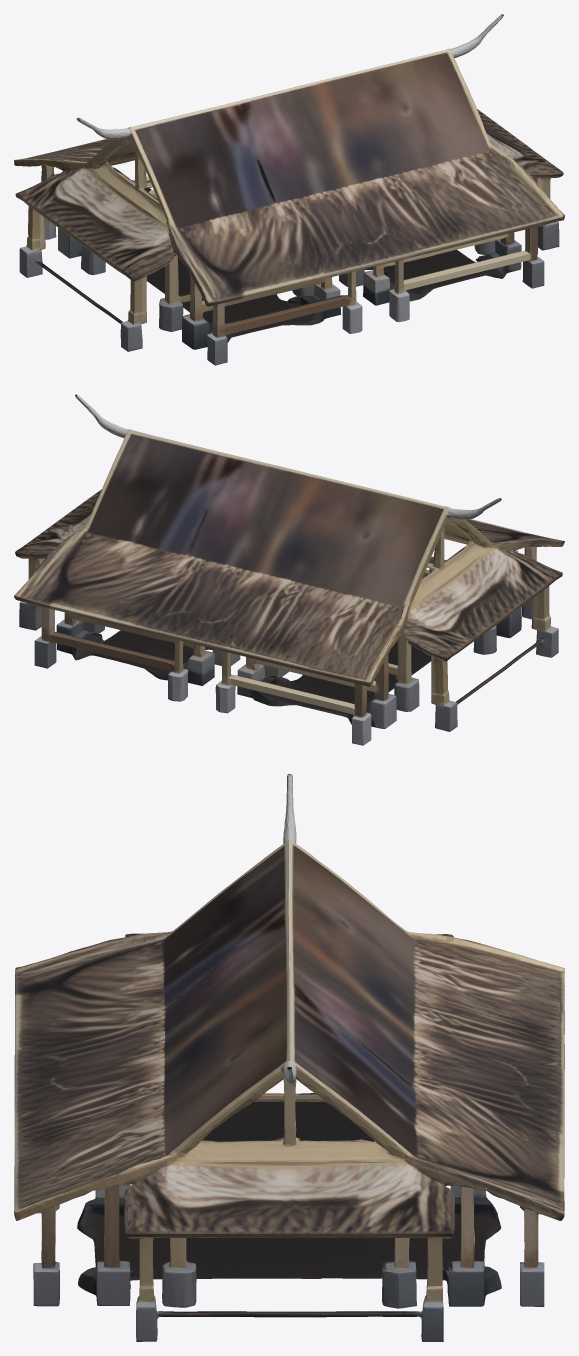
File: maluku-utara.glb
The picture shows the model from 3 angles, top to bottom: view 1: azimuth 30°, elevation 25°; view 2: azimuth 150°, elevation 25°; view 3: azimuth 270°, elevation 25°; orthographic projection. The views are drawn at different scales.
Visible parts, largest first — view 1: world; view 2: world; view 3: world.
Part boxes in pixels (x1,y1,x2,y2): world: [14, 14, 564, 365]; world: [14, 394, 564, 745]; world: [14, 774, 564, 1341].
Bounding box in the file's own units: 0.7012 × 0.2995 × 0.546.
Materials: 1 (1 with a texture image).
